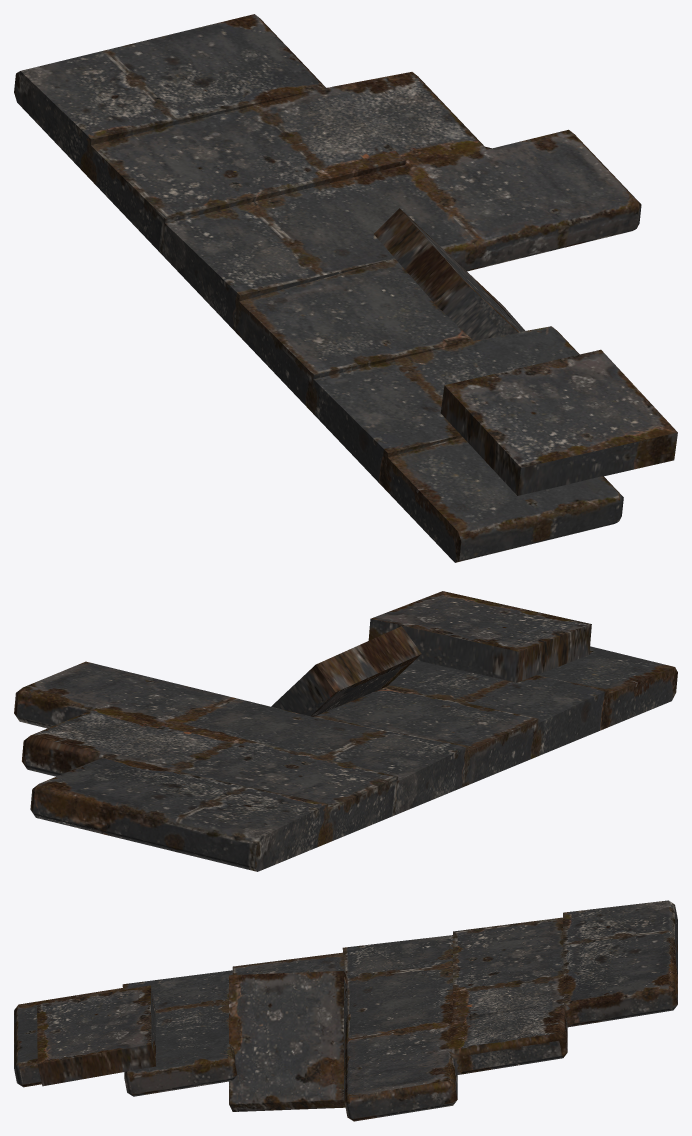
Rendered from WallRoofSmall_BrokenTopR.fbx.
3 views of the same model, one above another, from view 1: azimuth 30°, elevation 25°; view 2: azimuth 150°, elevation 25°; view 3: azimuth 270°, elevation 25° (orthographic). The views are drawn at different scales.
Parts seen in each view (by area): view 1: WallRoof_BrokenTopR_LOD0; view 2: WallRoof_BrokenTopR_LOD0; view 3: WallRoof_BrokenTopR_LOD0.
Boxes of the visible parts, bbox=[...] form: WallRoof_BrokenTopR_LOD0: bbox=[14, 14, 677, 562]; WallRoof_BrokenTopR_LOD0: bbox=[14, 591, 677, 871]; WallRoof_BrokenTopR_LOD0: bbox=[14, 900, 677, 1121].
Size of what is drawn, in the model's own units: 62.3 by 25.5 by 119.
